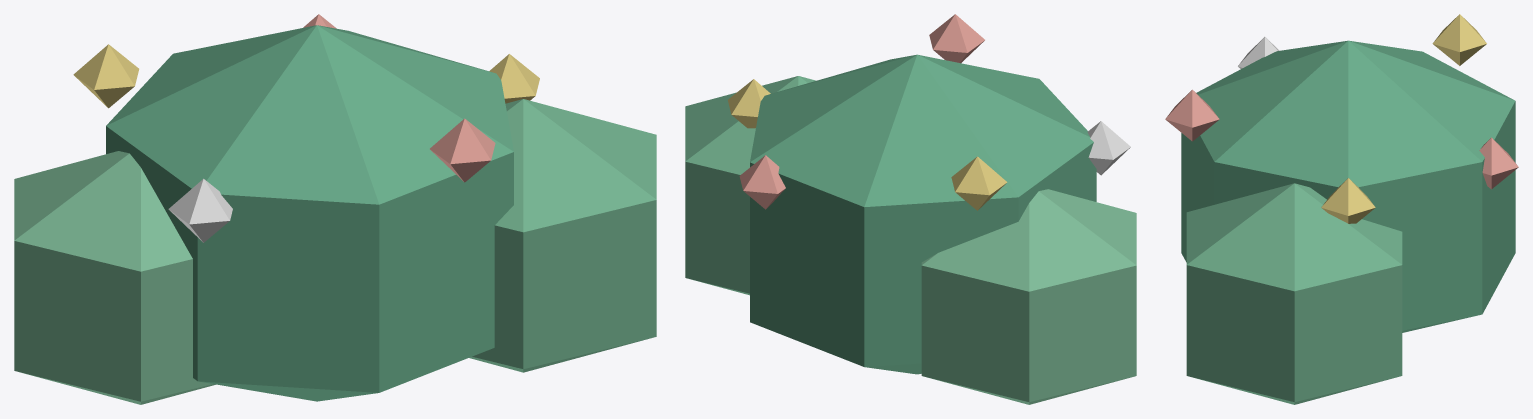
Rendered from shrub.glb.
3 views of the same model, side by side, from view 1: azimuth 30°, elevation 25°; view 2: azimuth 150°, elevation 25°; view 3: azimuth 270°, elevation 25° (orthographic). The views are drawn at different scales.
Bounding box in the file's own units: 1.53 × 0.935 × 0.9833.
